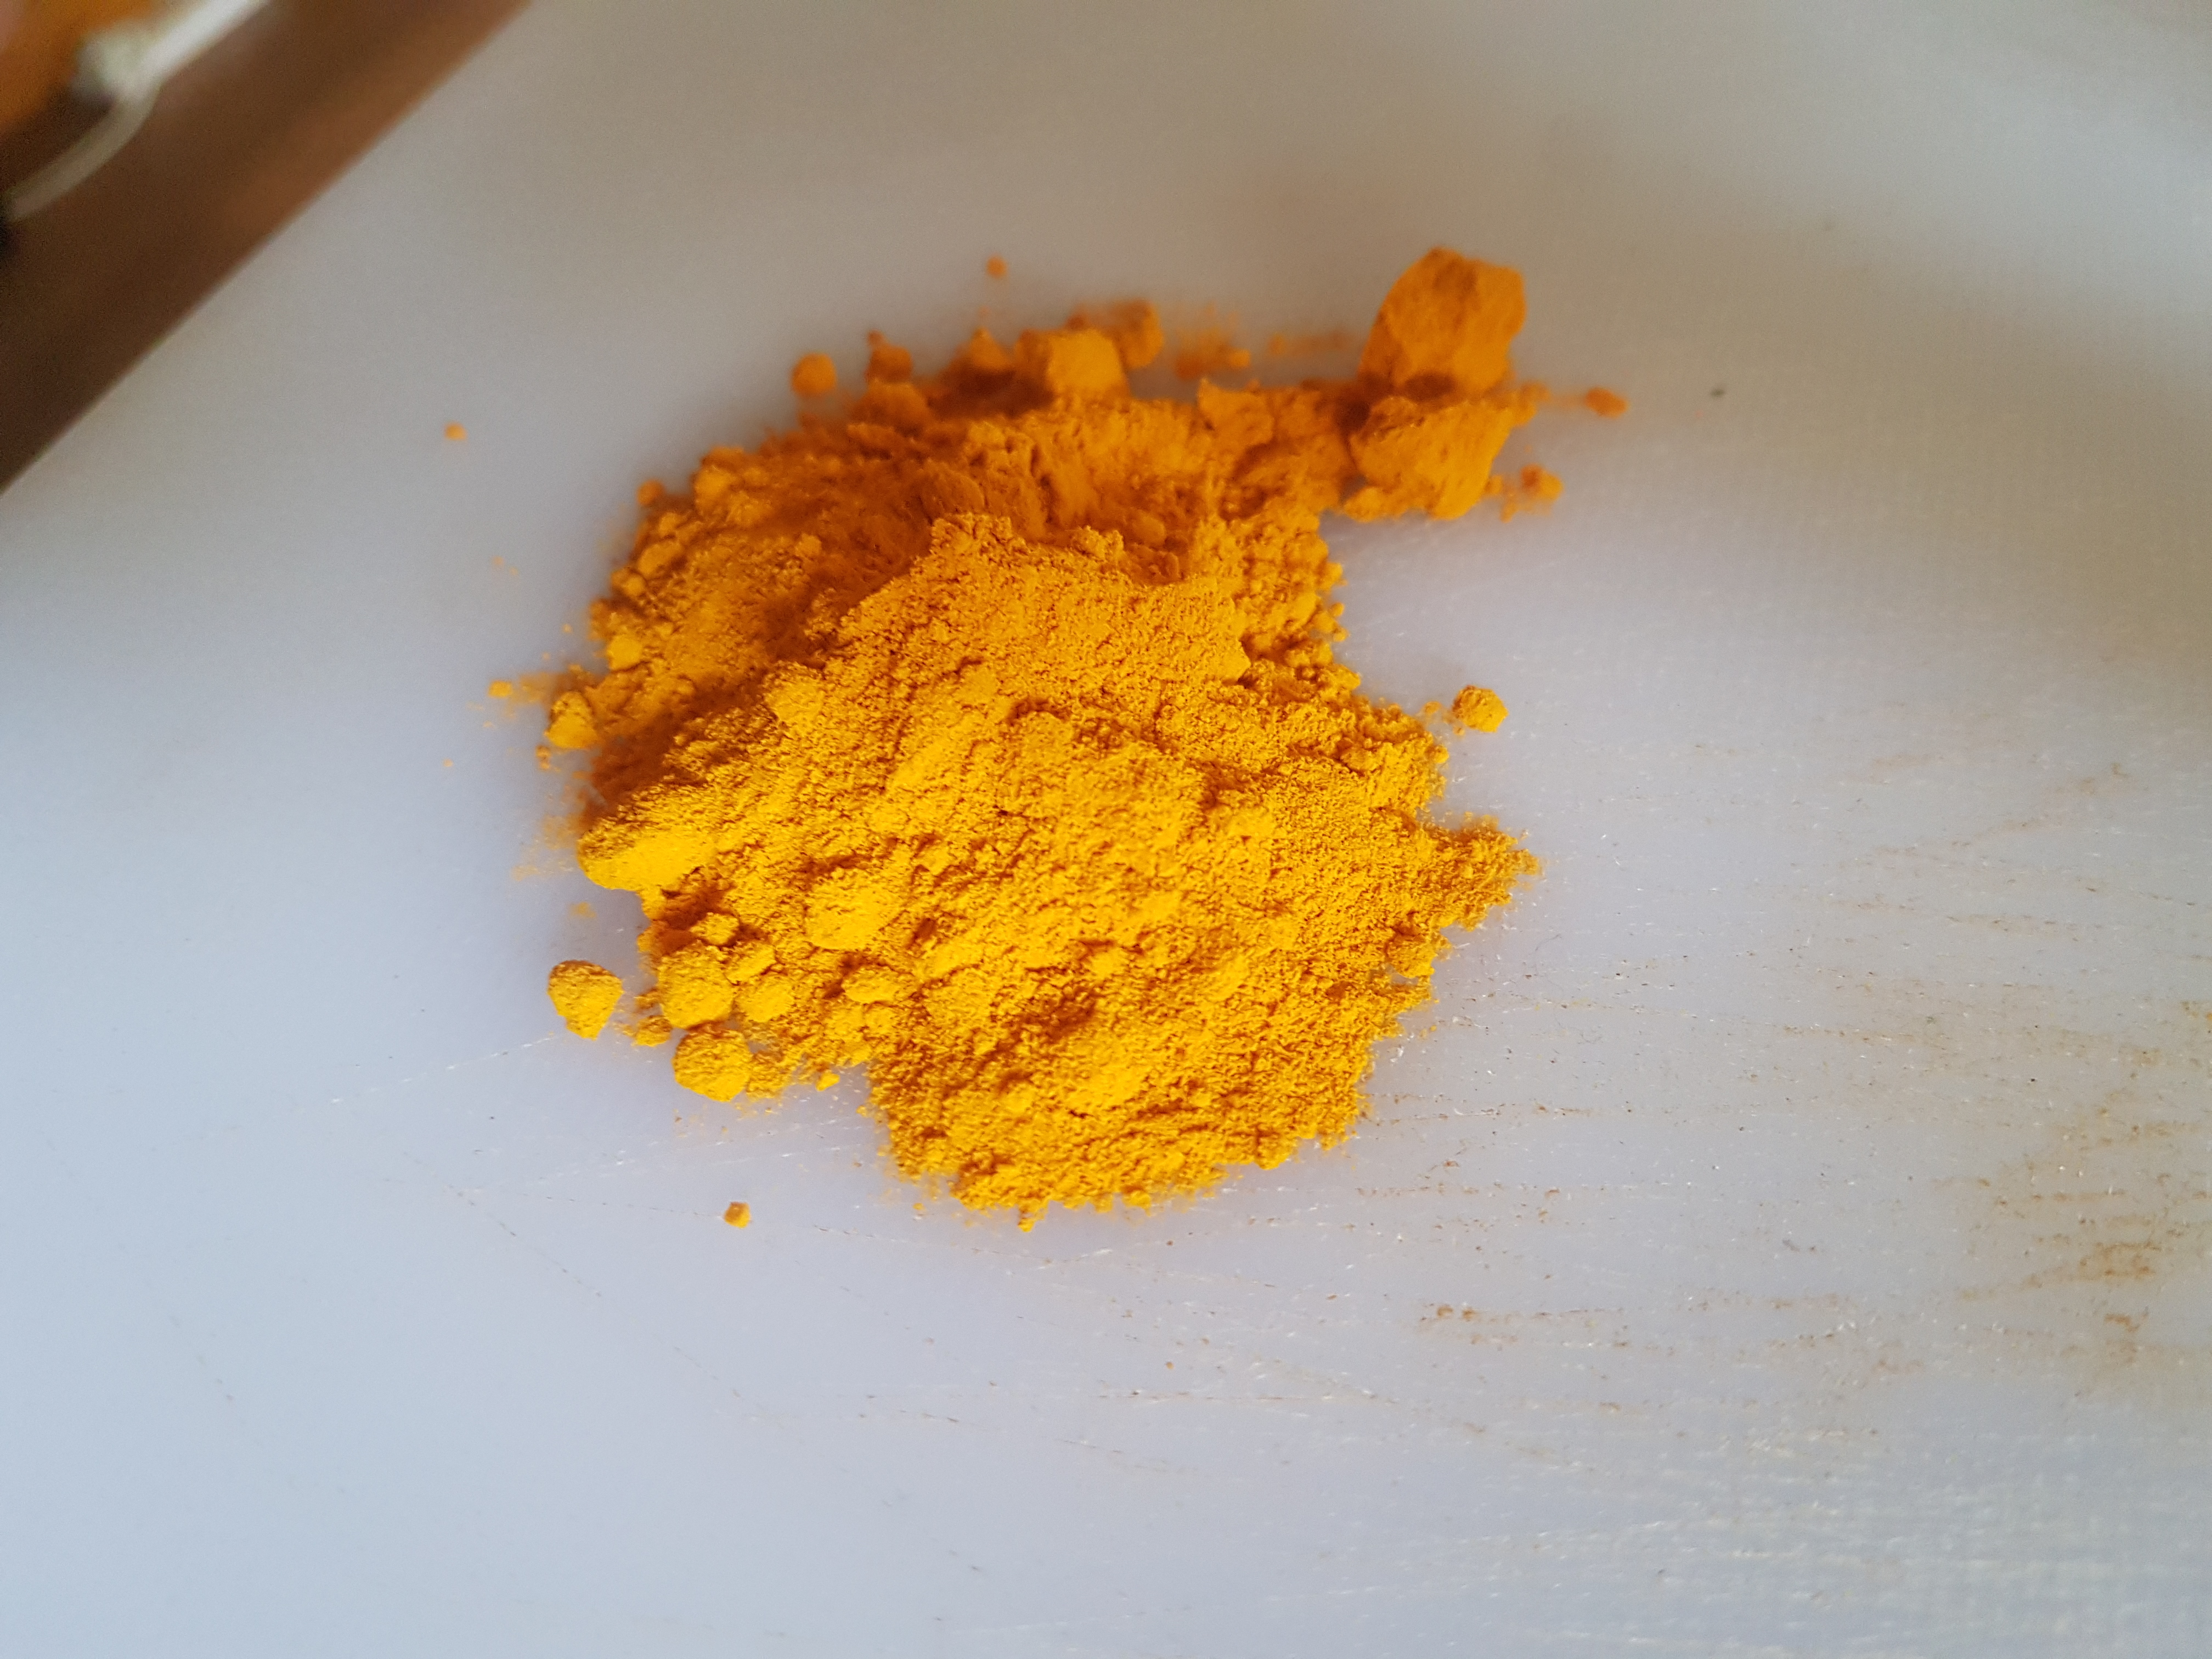Turmeric dried: (434, 251, 1824, 1248)
